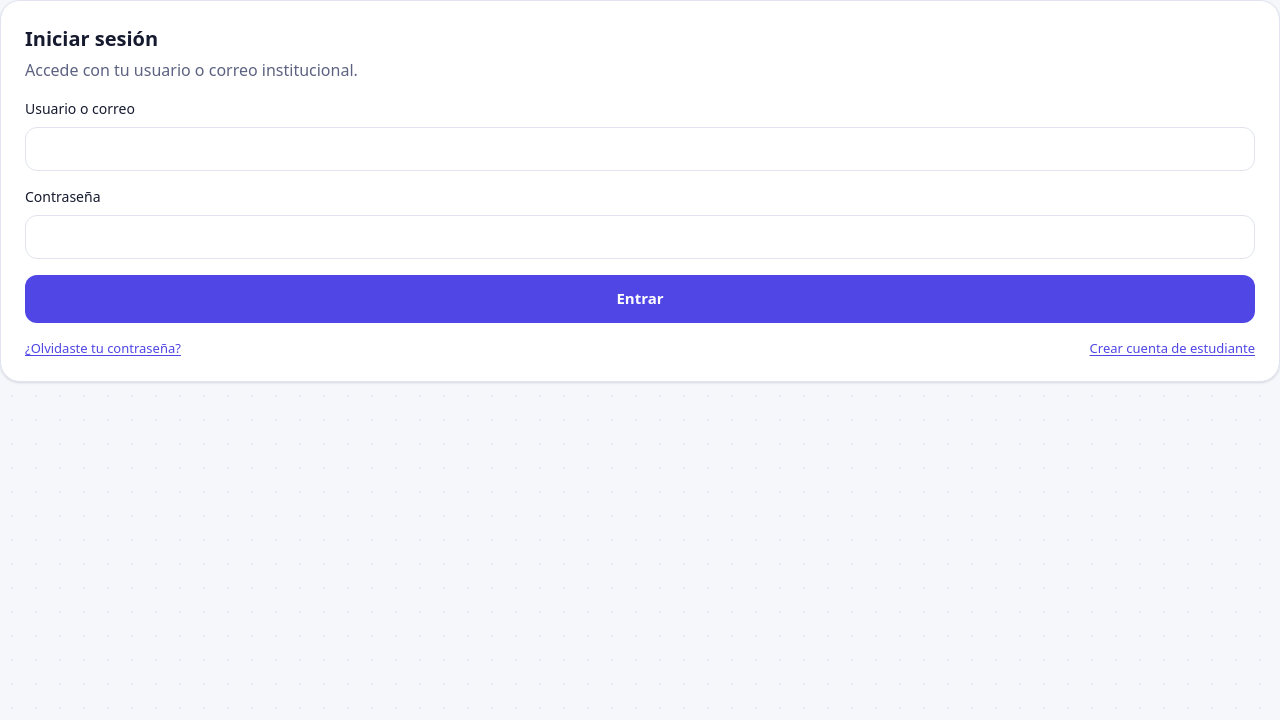
Test: LoginPage › shows the backend error message on failure
Type "alguien" into the field labelled "Usuario o correo". click: (640, 149)
box: [25,127,1255,171]
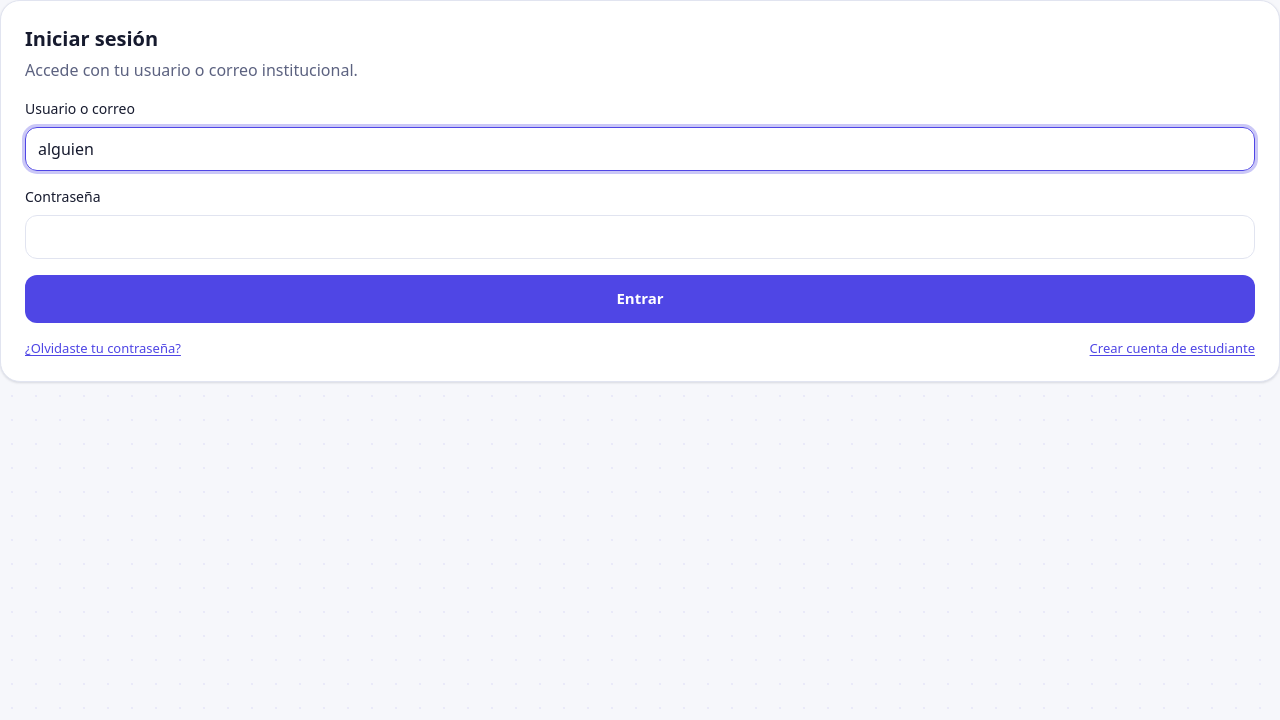
Type "mala" into the password field labelled "Contraseña". click: (640, 237)
box: [25,215,1255,259]
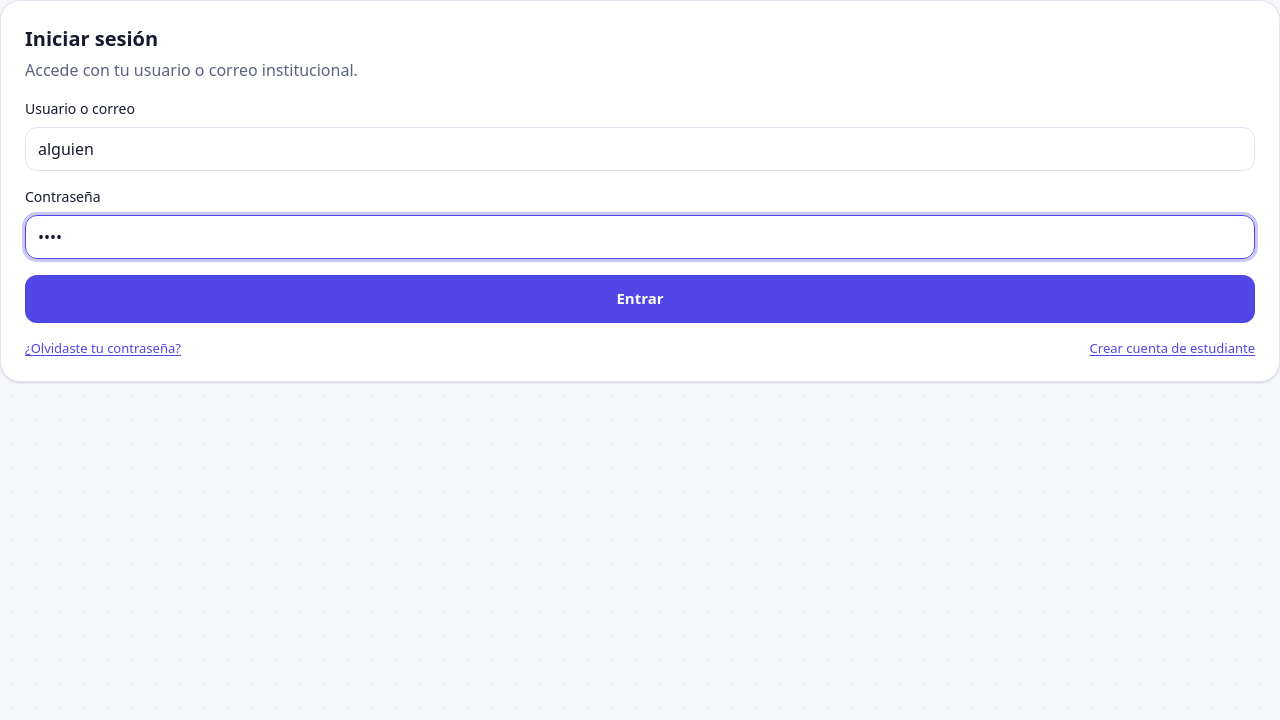
Click the button "Entrar". click: click(640, 299)
box: [25,275,1255,323]
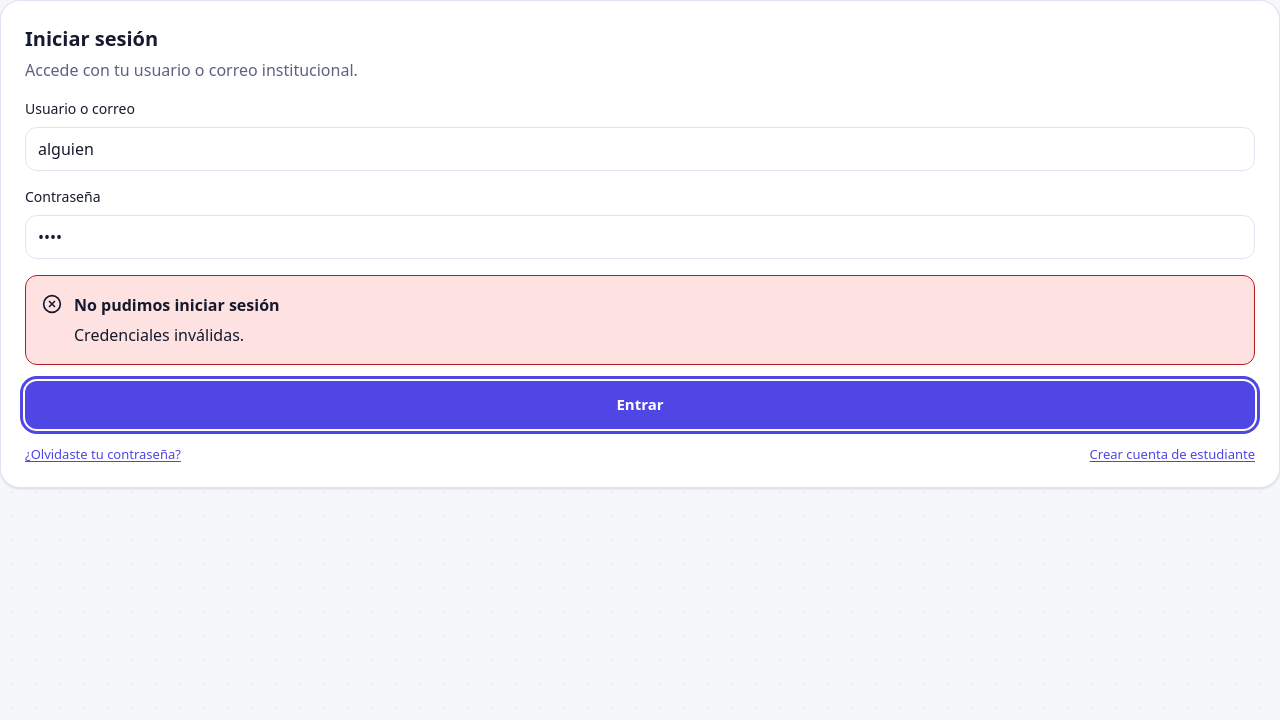
Result: the text "Credenciales inválidas." is shown at [74,324,244,346]
